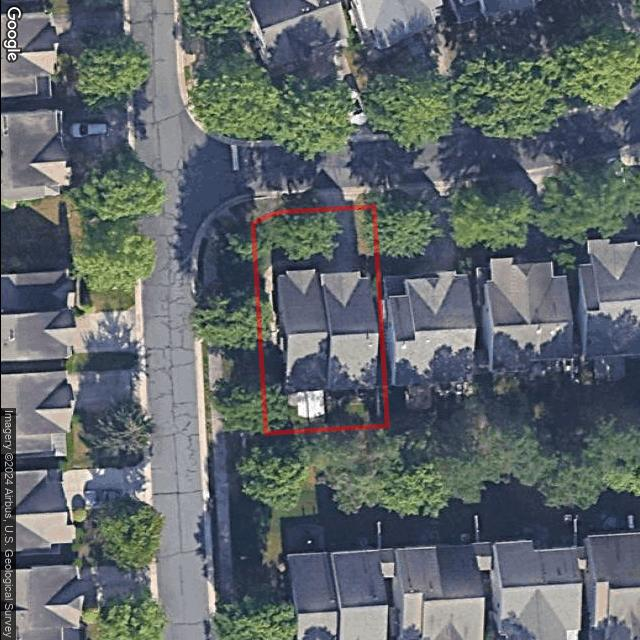Driveway: (326, 205, 358, 272)
Extra-Driveway: (319, 195, 357, 208)
Extra-Lawn: (218, 196, 327, 435), (196, 237, 212, 436), (352, 194, 372, 204)
Extra-Sidewalk: (202, 209, 237, 434)
House: (275, 269, 378, 391)
Lawn: (251, 206, 386, 433)
Other: (288, 390, 324, 419)
Sidewalk: (261, 265, 278, 347), (293, 258, 329, 270)
